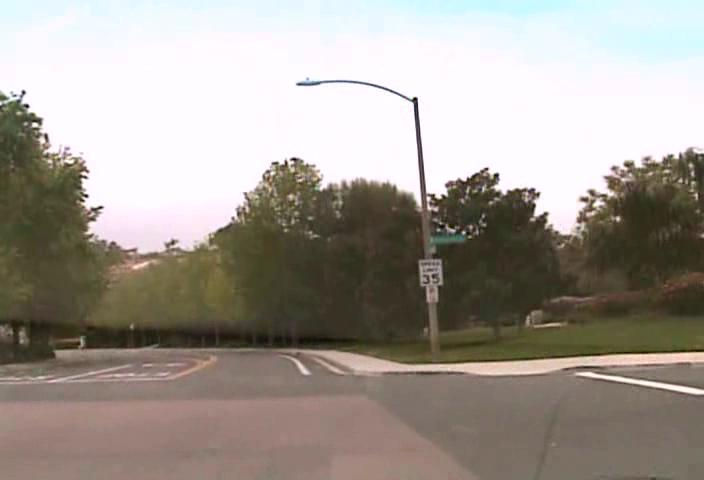speedLimit35: (418, 258, 443, 286)
